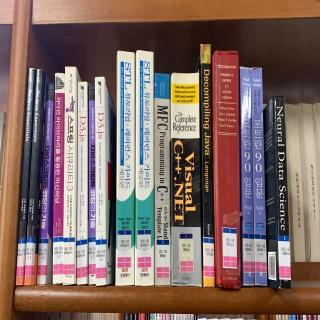book-spine: (170, 72, 202, 287), (214, 50, 241, 289), (135, 50, 154, 286), (116, 51, 135, 286), (16, 68, 34, 286), (24, 69, 42, 285), (199, 44, 215, 287), (250, 67, 267, 286), (154, 73, 171, 286), (273, 95, 291, 289), (37, 83, 54, 284), (240, 67, 255, 286), (63, 67, 76, 285), (53, 73, 65, 285), (94, 77, 106, 286), (77, 82, 88, 284), (88, 83, 96, 284)
